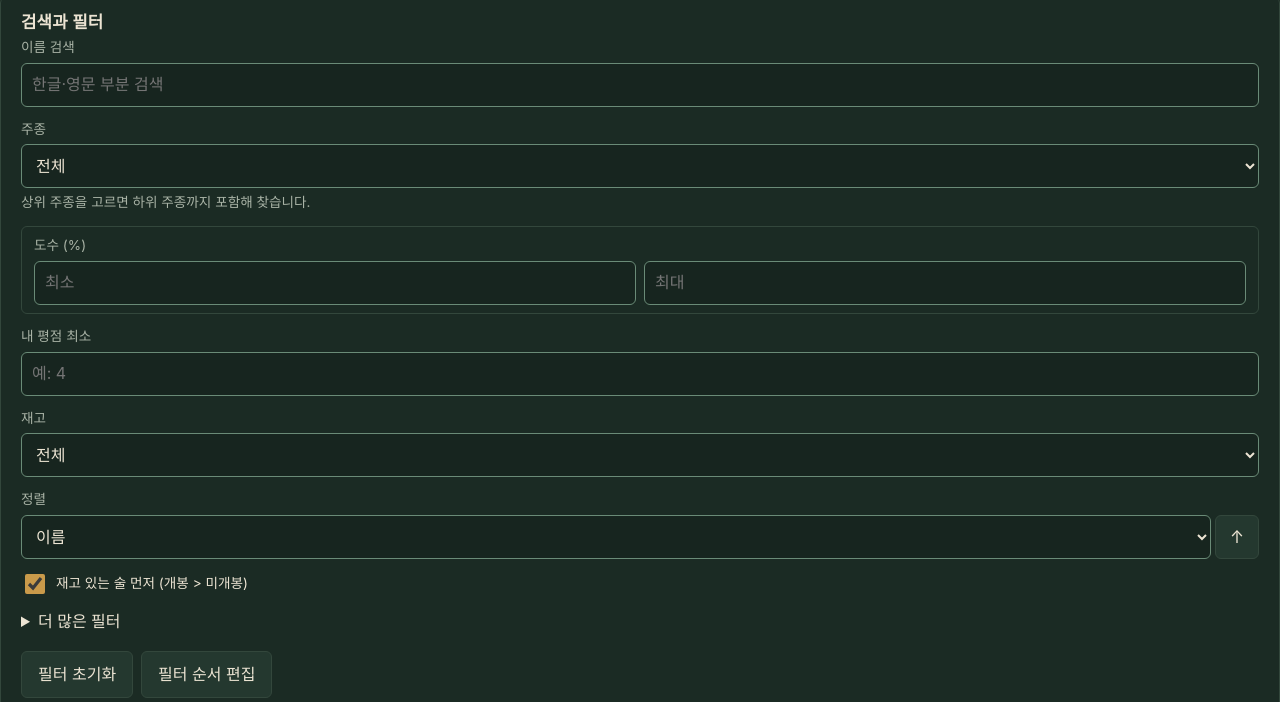
ProductFilterPanel › 항목을 경계 너머로 올리면 '더 많은 필터' 에서 상시 표시로 넘어온다
This screenshot has width=1280, height=702.
Click the button "필터 순서 편집": (207, 674) x1=141 y1=651 x2=272 y2=698
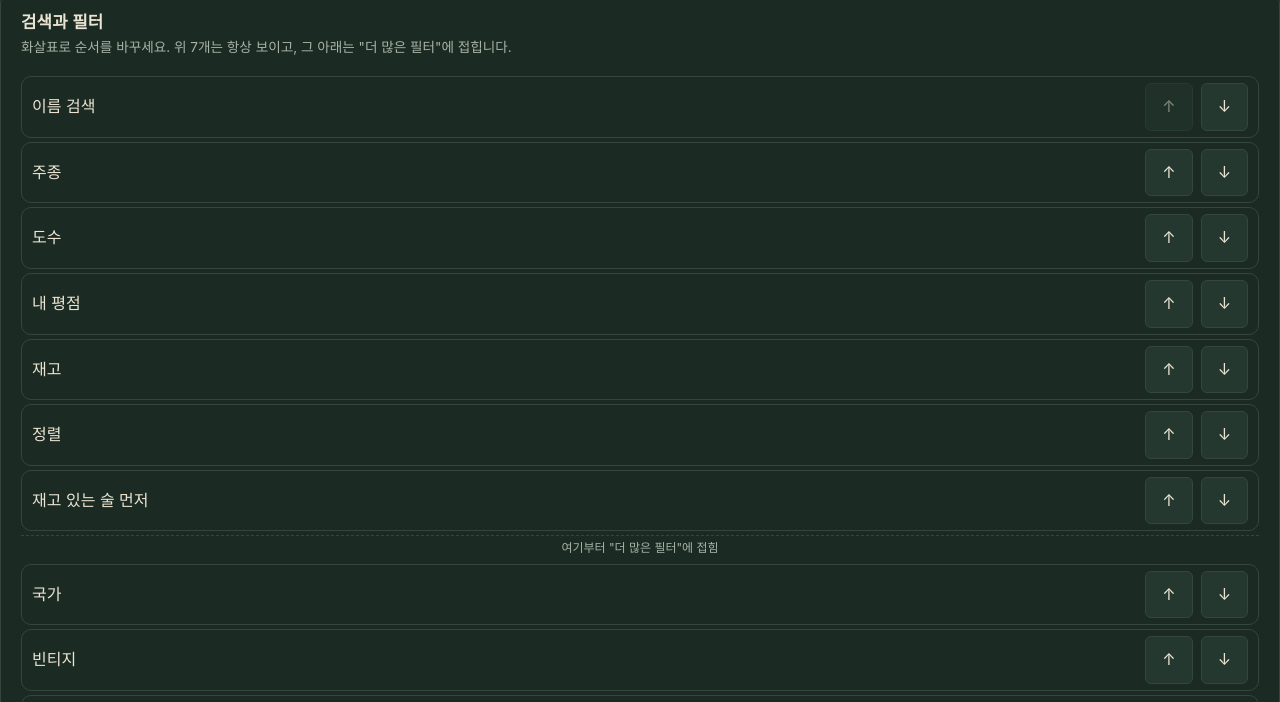
Click the button named "국가 위로 이동": (1169, 594) x1=1145 y1=571 x2=1193 y2=618
(page scrolled)
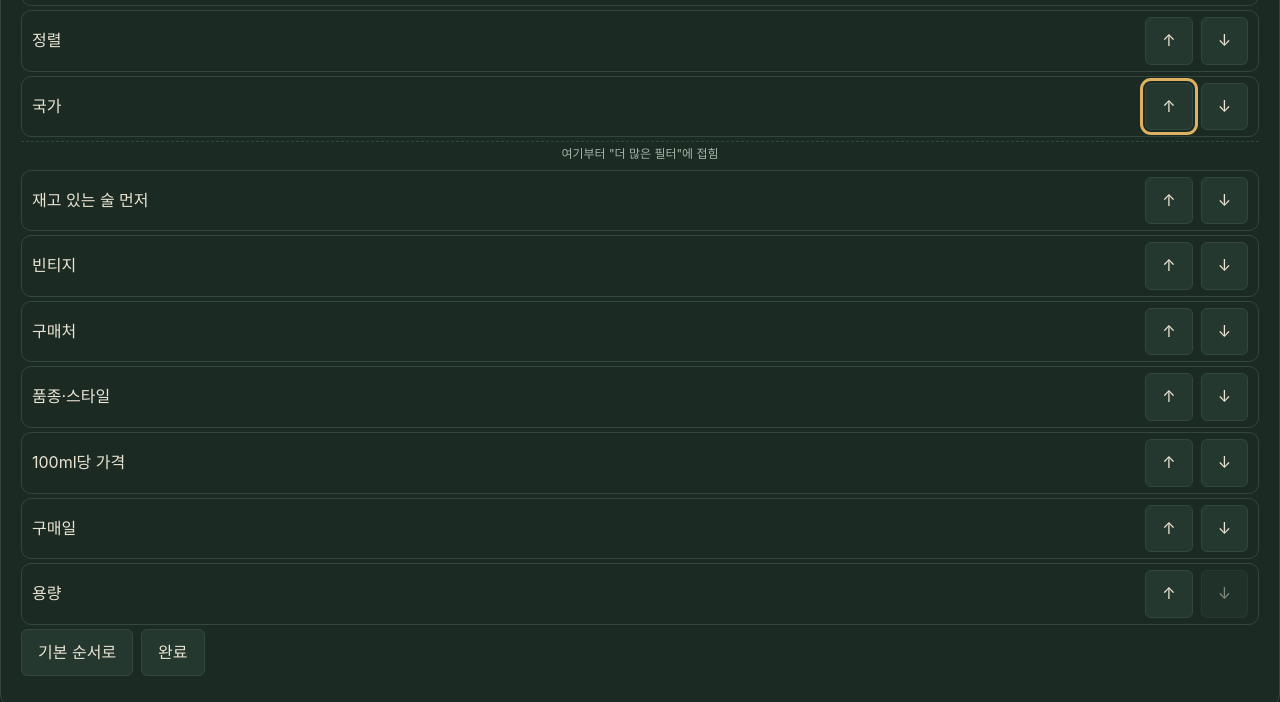
Click the button "완료": (173, 652) x1=141 y1=629 x2=205 y2=676
(page scrolled)
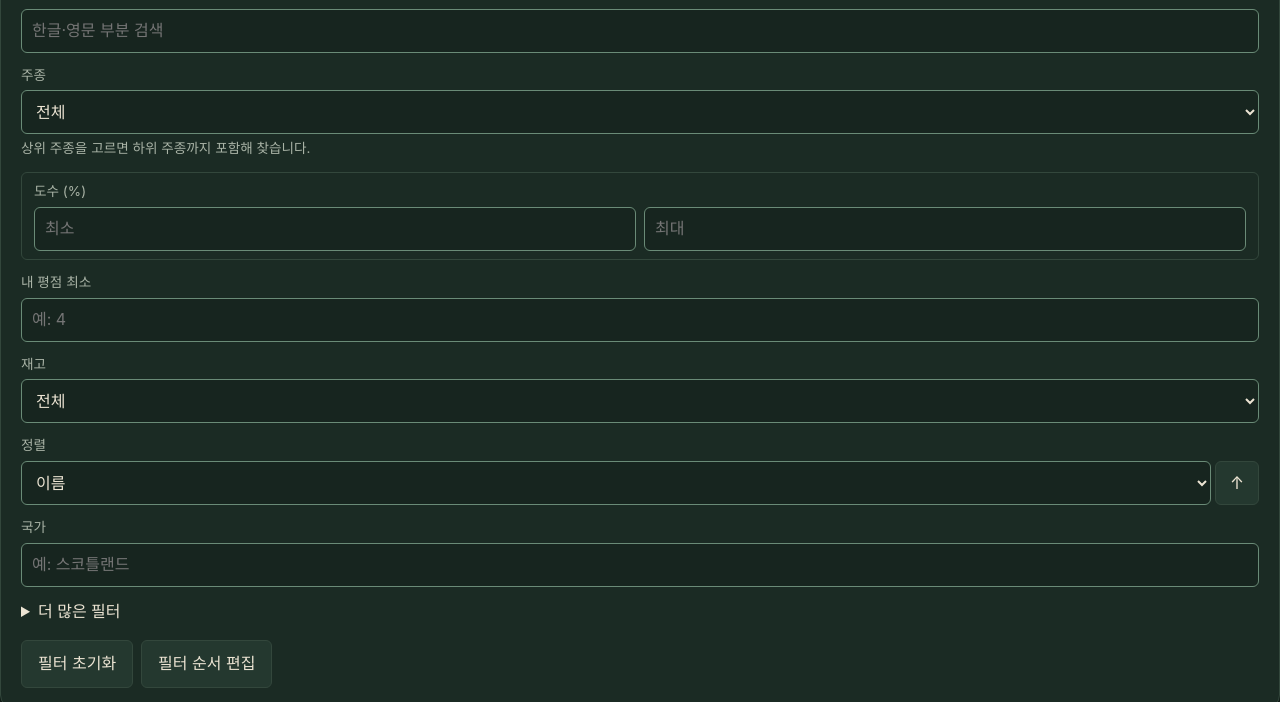
Result: the field labelled "국가" is shown at x1=21 y1=543 x2=1259 y2=587
